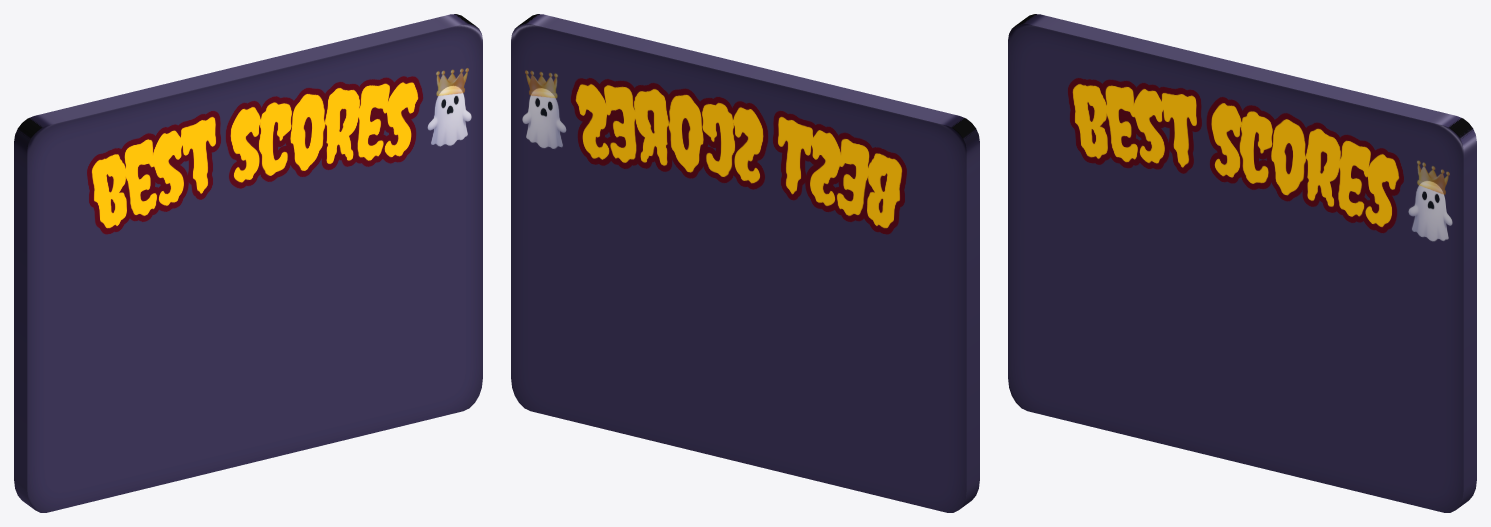
Rendered from scores.gltf.
The picture shows the model from 3 angles, left to right: view 1: azimuth 30°, elevation 25°; view 2: azimuth 150°, elevation 25°; view 3: azimuth 330°, elevation 25°; orthographic projection.
Parts seen in each view (by area): view 1: Cube.001; view 2: Cube.001; view 3: Cube.001.
Part boxes in pixels (x1=…): Cube.001: x1=14, y1=14, x2=482, y2=512; Cube.001: x1=511, y1=14, x2=979, y2=512; Cube.001: x1=1008, y1=14, x2=1476, y2=512.
Bounding box in the file's own units: 2 × 1.62 × 0.1.
Materials: 1 (1 with a texture image).
